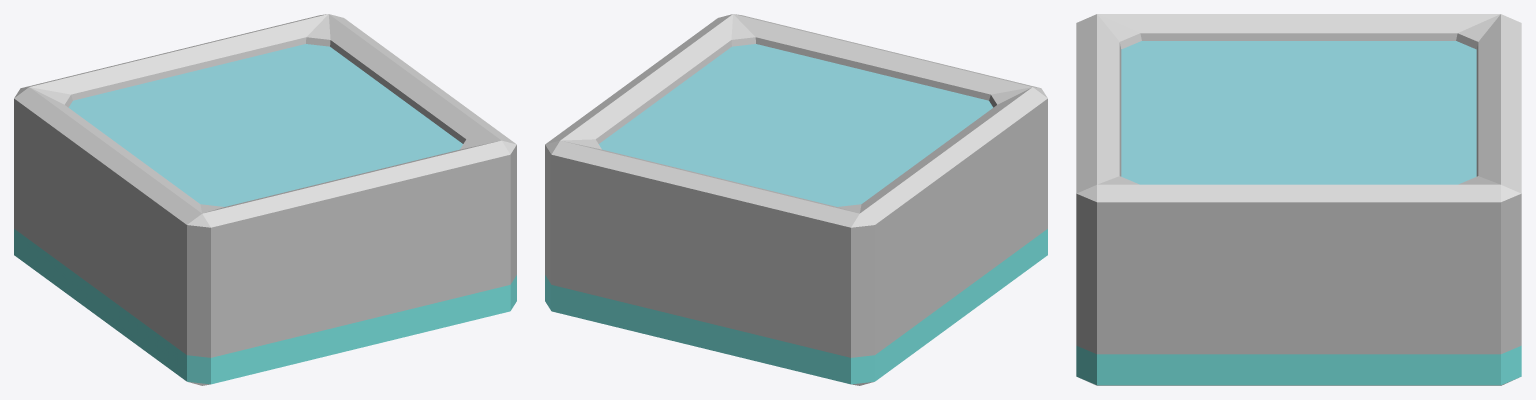
The model's file is fridge.fbx.
3 renders of one model, left to right at view 1: azimuth 30°, elevation 25°; view 2: azimuth 150°, elevation 25°; view 3: azimuth 270°, elevation 25°, orthographic. The views are drawn at different scales.
Visible parts, largest first — view 1: body; view 2: body; view 3: body.
Boxes of the visible parts, x1,y1,x2,y2 form: body: [14, 14, 516, 385]; body: [545, 14, 1047, 385]; body: [1076, 14, 1521, 385].
Bounding box in the file's own units: 1 × 0.499 × 1.
